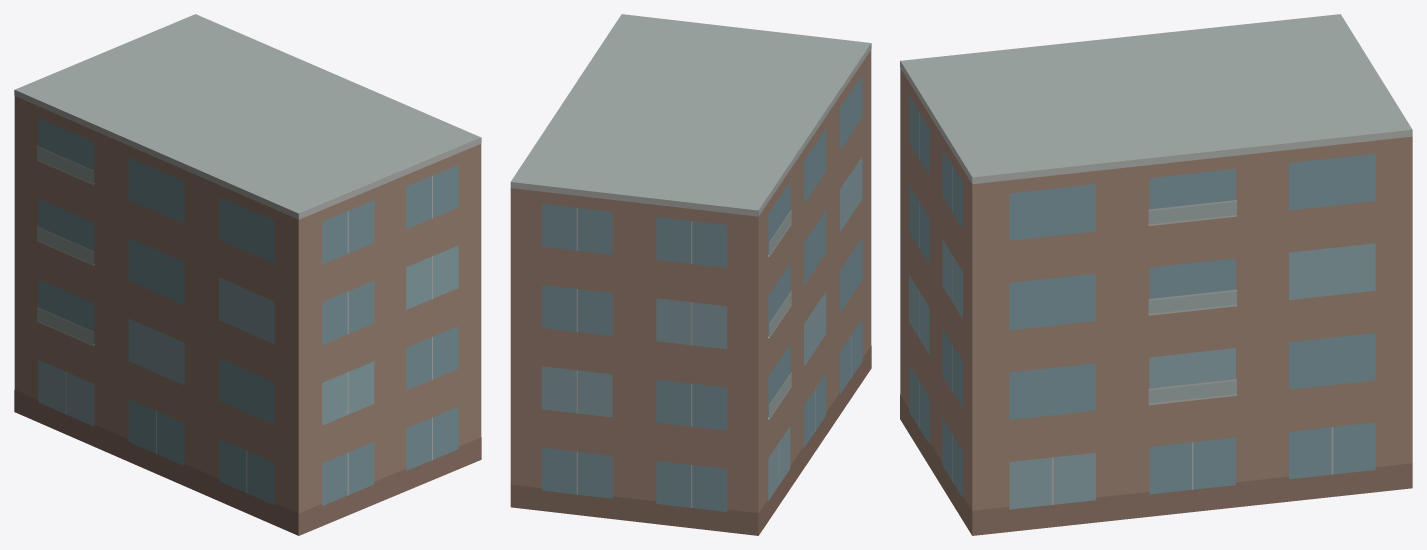
Rendered from survey-upis-32720482.glb.
3 renders of one model, left to right at view 1: azimuth 30°, elevation 25°; view 2: azimuth 150°, elevation 25°; view 3: azimuth 270°, elevation 25°, orthographic. The views are drawn at different scales.
Visible parts, largest first — view 1: survey-upis-32720482.tmp; view 2: survey-upis-32720482.tmp; view 3: survey-upis-32720482.tmp.
Boxes of the visible parts, bbox=[...] form: survey-upis-32720482.tmp: bbox=[14, 14, 481, 535]; survey-upis-32720482.tmp: bbox=[510, 14, 871, 535]; survey-upis-32720482.tmp: bbox=[900, 14, 1412, 535].
Size of the model in its own units: 12.63 by 12.9 by 16.73.
